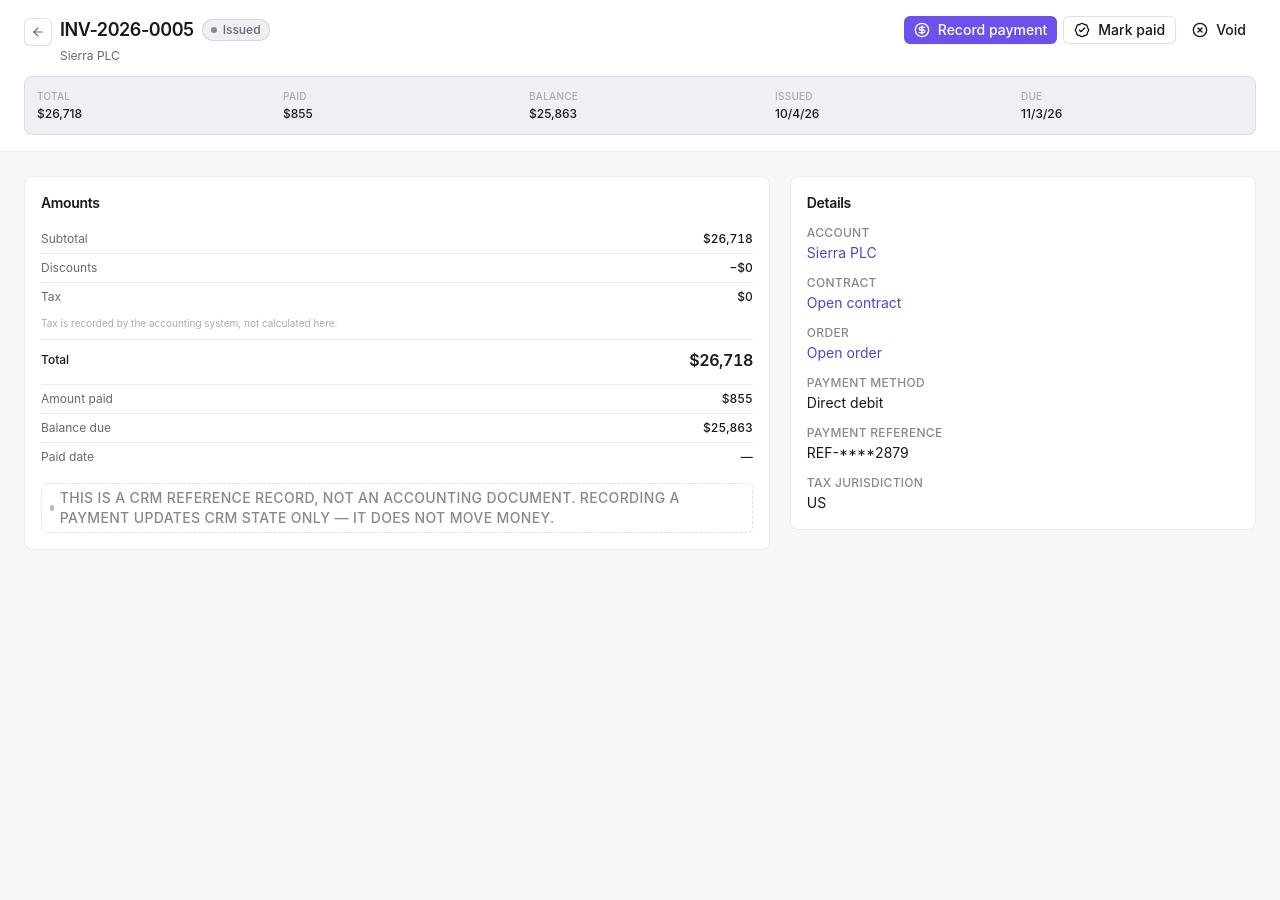
Test: InvoiceDetail settlement writes › voids only when a reason is given and keeps the reason on the record
The width and height of the screenshot is (1280, 900).
Click the button "Void" at [1219, 30], box [1182,16,1256,44]
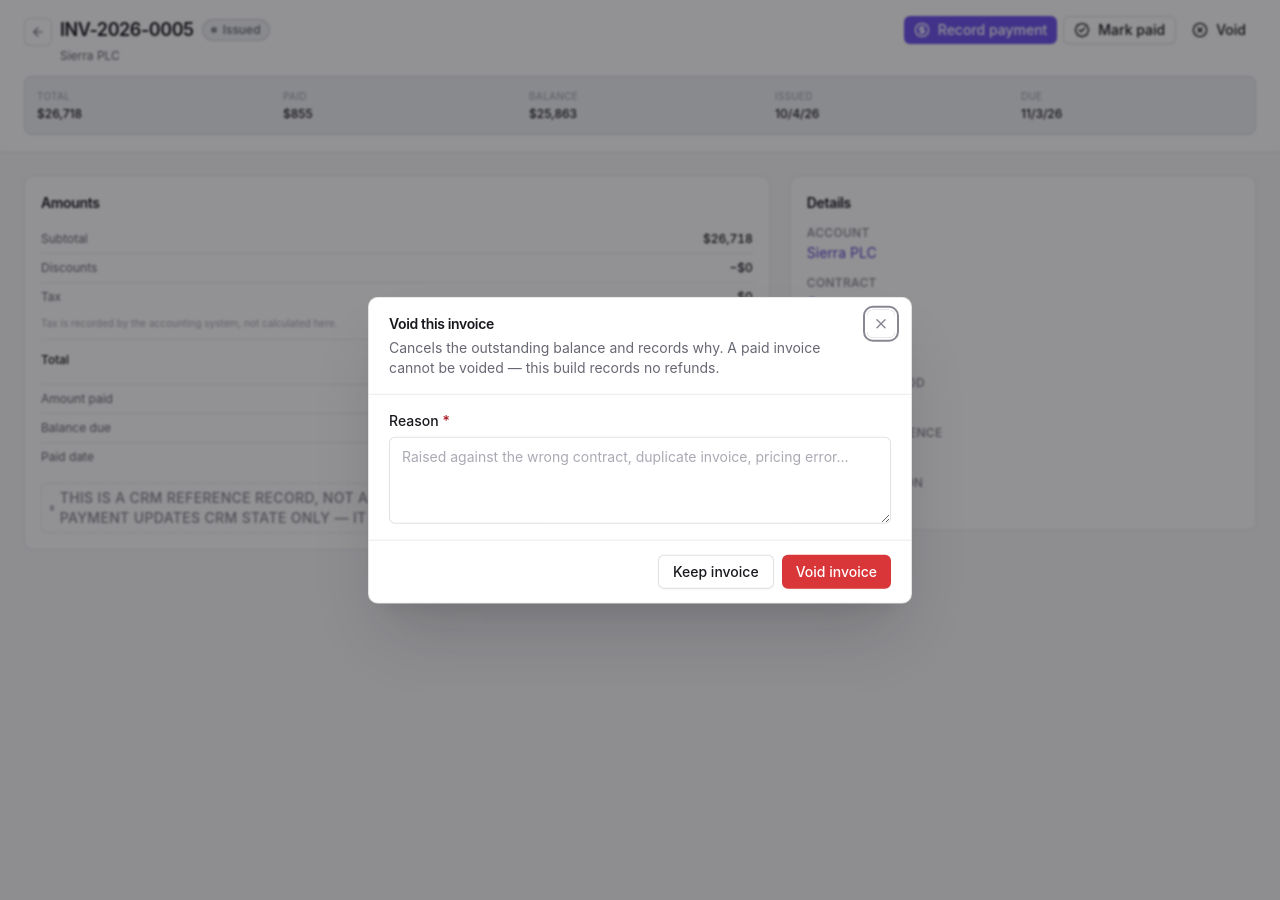
Click the button "Void invoice" at [836, 571], box [782,554,891,588]
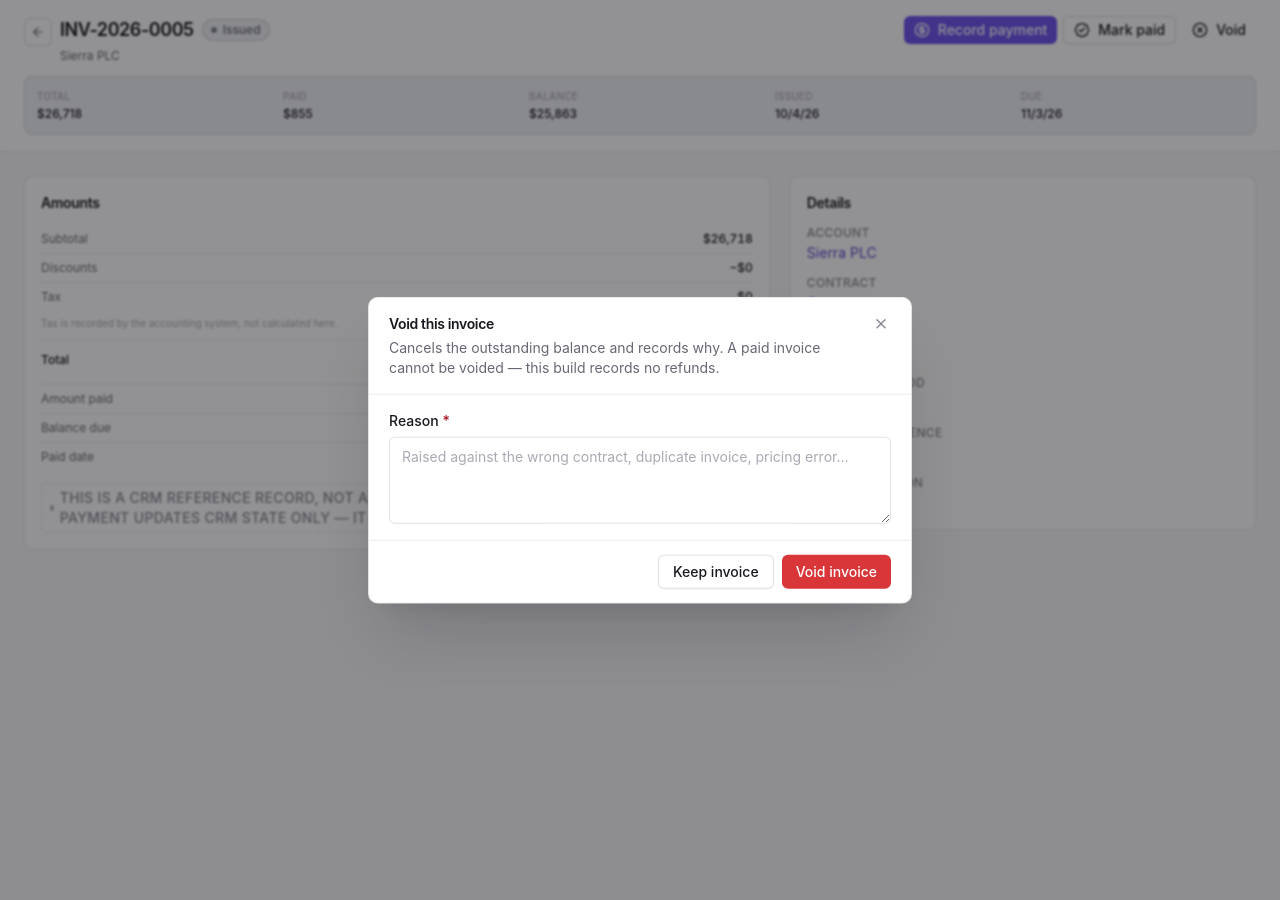
Expected: the dialog is shown, [368,297,912,603]
Type "Raised against the wrong contract." into the text box labelled "Reason *" at [640, 480], box [389,437,891,523]
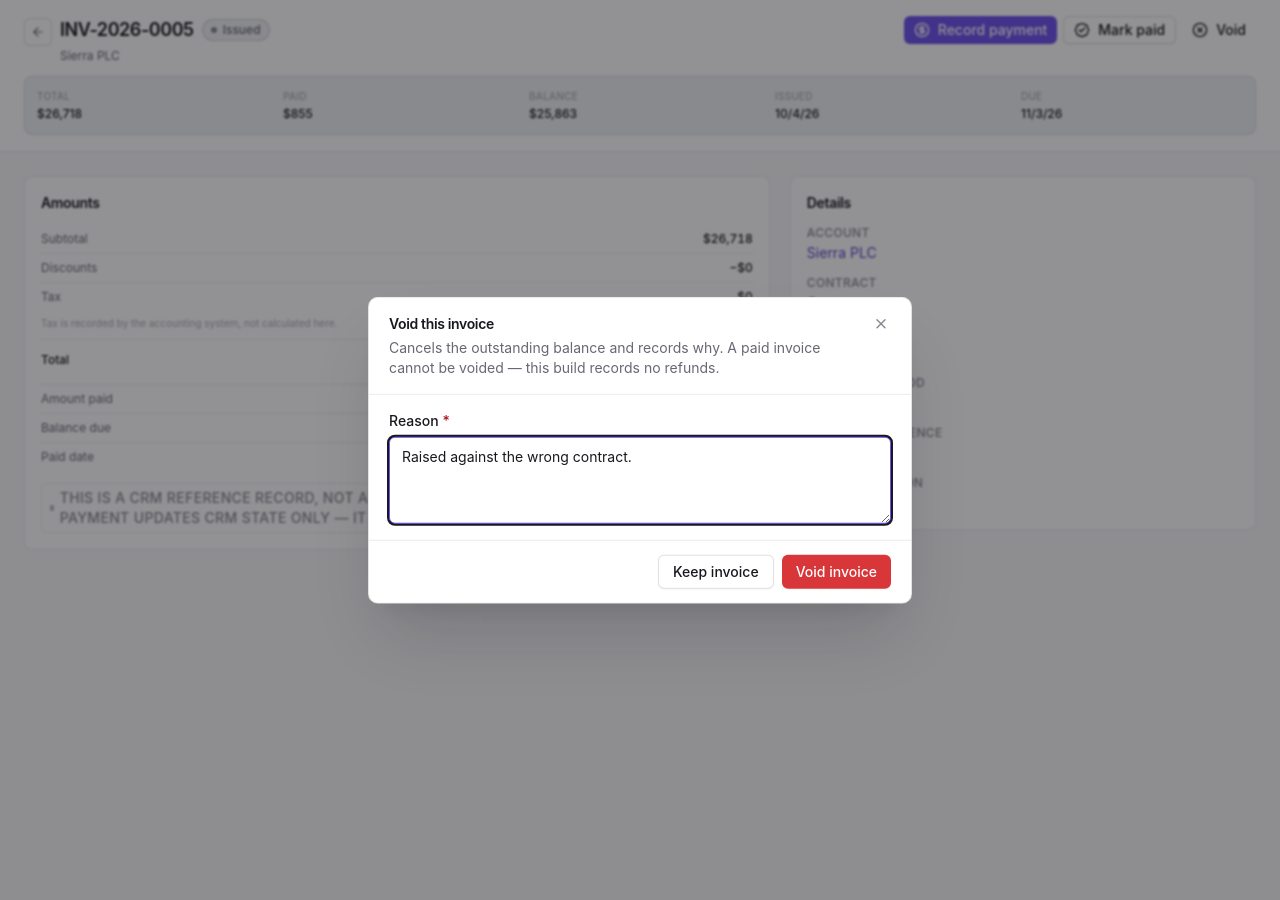
Click the button "Void invoice" at [836, 571], box [782,554,891,588]
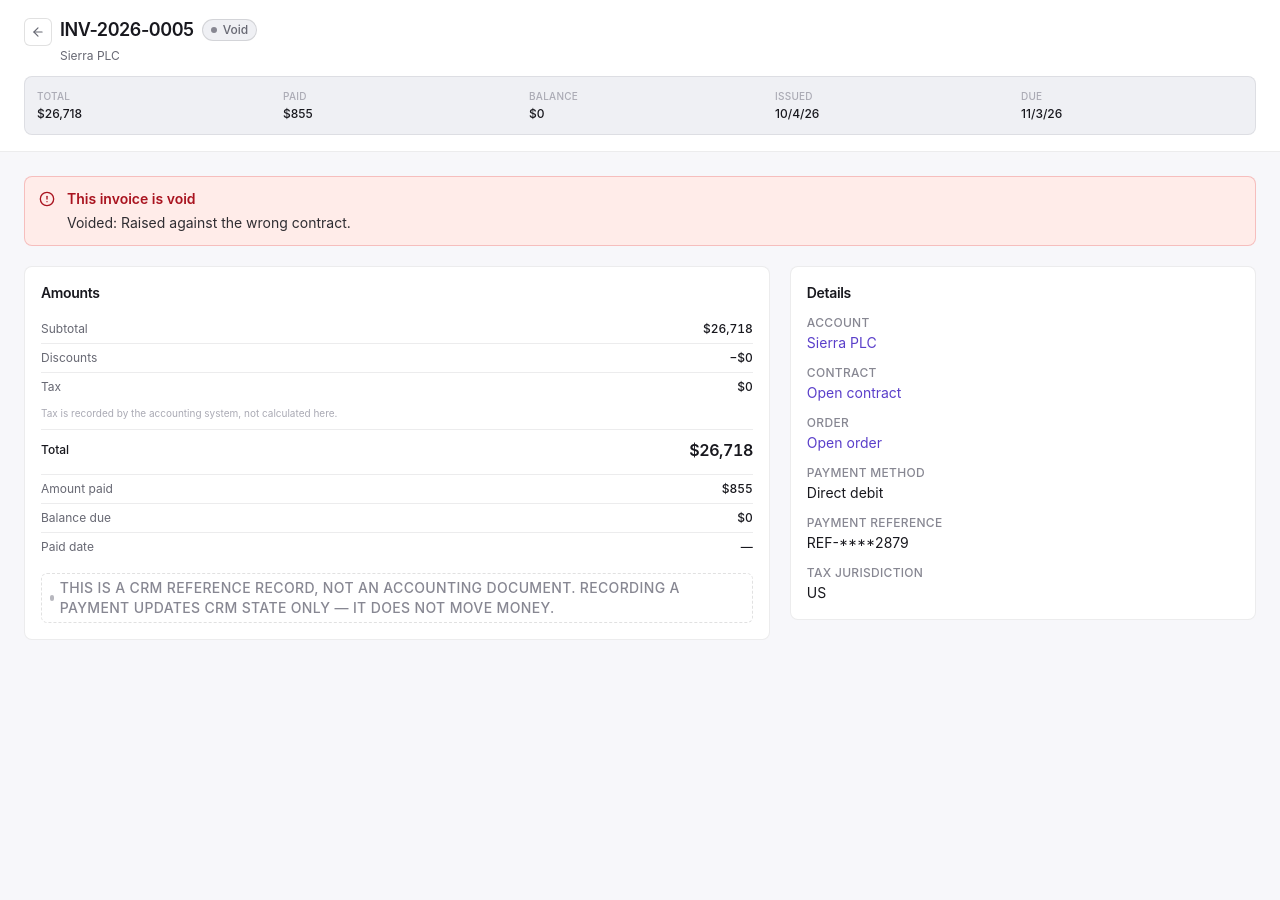
Expected: the text "This invoice is void" is shown, [67,190,196,206]
